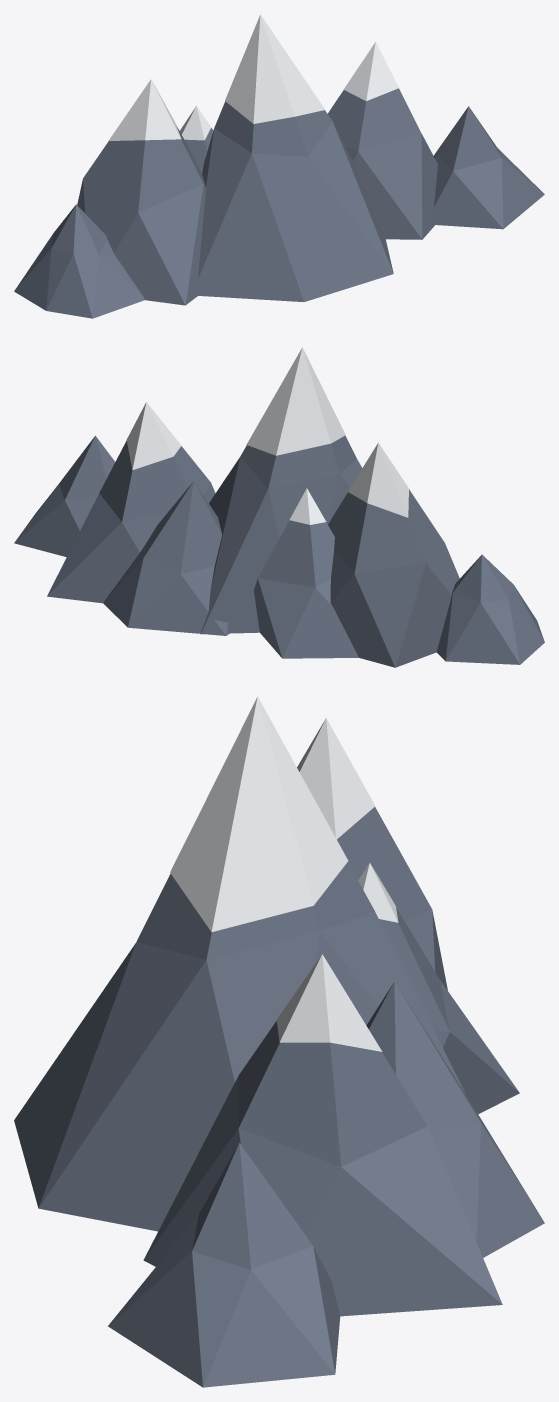
Rendered from Mountains1.fbx.
3 renders of one model, top to bottom at view 1: azimuth 30°, elevation 25°; view 2: azimuth 150°, elevation 25°; view 3: azimuth 270°, elevation 25°, orthographic. The views are drawn at different scales.
Visible parts, largest first — view 1: Mountain, Snow; view 2: Mountain, Snow; view 3: Mountain, Snow.
Boxes of the visible parts, left/top/right/bottom form: Mountain: left=14, top=88, right=544, bottom=318; Snow: left=108, top=14, right=398, bottom=140; Mountain: left=14, top=435, right=544, bottom=667; Snow: left=126, top=347, right=408, bottom=524; Mountain: left=14, top=807, right=544, bottom=1387; Snow: left=170, top=696, right=398, bottom=1051.
Bounding box in the file's own units: 160 × 72.34 × 78.54.
